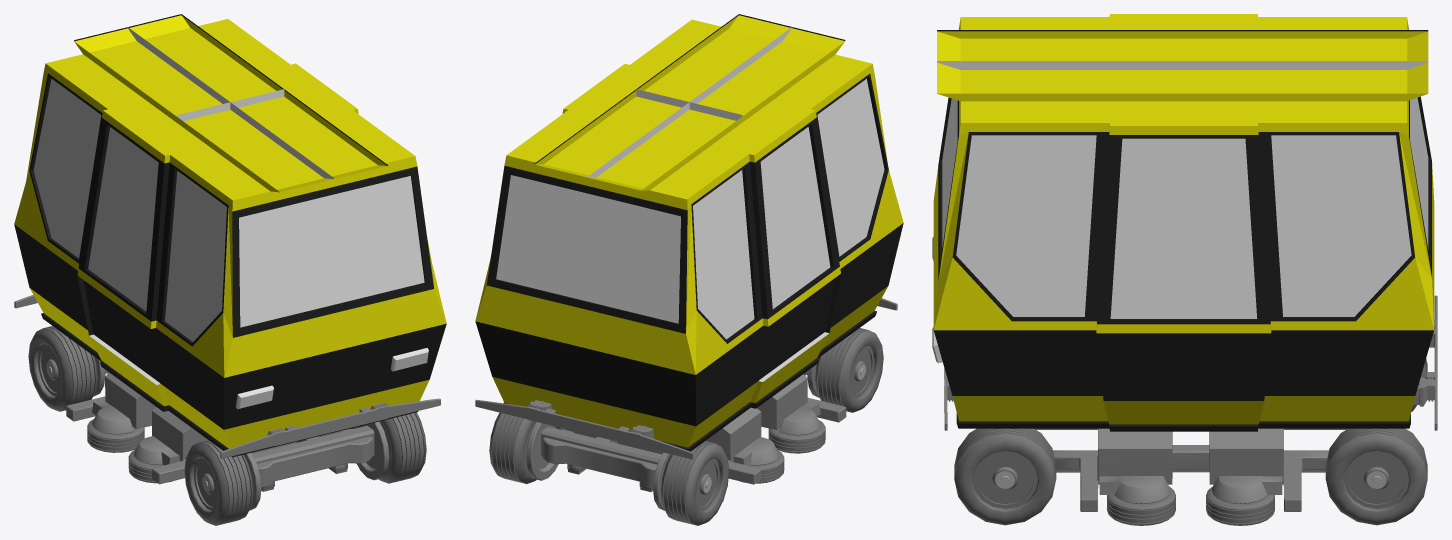
Rendered from Wagon_V2.fbx.
3 renders of one model, left to right at view 1: azimuth 30°, elevation 25°; view 2: azimuth 150°, elevation 25°; view 3: azimuth 270°, elevation 25°, orthographic. The views are drawn at different scales.
Parts seen in each view (by area): view 1: Wagon.003, Porte.002, bottom.002, right_top.002, right_bottom.002, left_top.002, horizontal_right_bottom.002, horizontal_right_top.002; view 2: Wagon.003, Porte.002, bottom.002, right_bottom.002, right_top.002, left_bottom.002, horizontal_right_top.002, horizontal_right_bottom.002; view 3: Wagon.003, Porte.002, bottom.002, left_bottom.002, left_top.002, horizontal_left_top.002, horizontal_left_bottom.002.
Part boxes in pixels (box(x1,y1,x2,y2)): Wagon.003: box(14, 14, 446, 457); Porte.002: box(77, 63, 358, 411); bottom.002: box(14, 295, 440, 510); right_top.002: box(184, 440, 253, 525); right_bottom.002: box(28, 326, 97, 411); left_top.002: box(378, 412, 426, 483); horizontal_right_bottom.002: box(87, 419, 144, 452); horizontal_right_top.002: box(128, 449, 172, 483); Wagon.003: box(475, 14, 903, 451); Porte.002: box(562, 64, 840, 408); bottom.002: box(475, 298, 897, 510); right_bottom.002: box(660, 441, 729, 525); right_top.002: box(815, 328, 883, 412); left_bottom.002: box(489, 412, 536, 483); horizontal_right_top.002: box(768, 420, 825, 453); horizontal_right_bottom.002: box(740, 450, 784, 483); Wagon.003: box(932, 17, 1434, 428); Porte.002: box(1096, 14, 1271, 431); bottom.002: box(944, 295, 1437, 511); left_bottom.002: box(1325, 428, 1427, 525); left_top.002: box(954, 428, 1056, 525); horizontal_left_top.002: box(1107, 486, 1175, 525); horizontal_left_bottom.002: box(1206, 486, 1274, 525).
Bounding box in the file's own units: 97.49 × 137 × 154.
